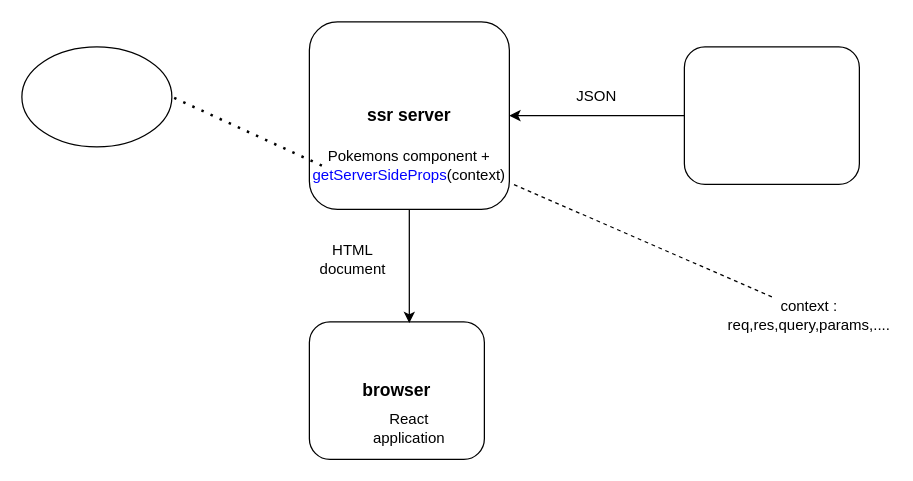
This 913x481 diagram has some shape labels left out. Each missing label, with the centre of its shape:
"amazon pokemon server" belongs at point (771, 115).
"invoked per request" belongs at point (96, 96).
